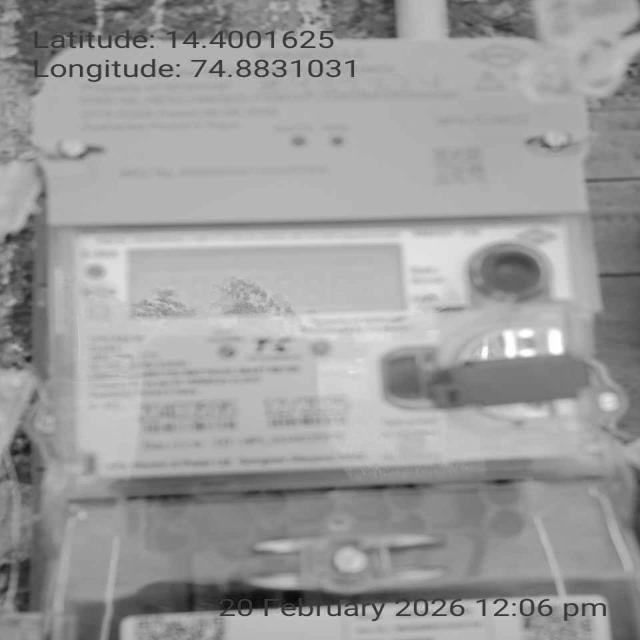meter: (33, 39, 597, 482)
